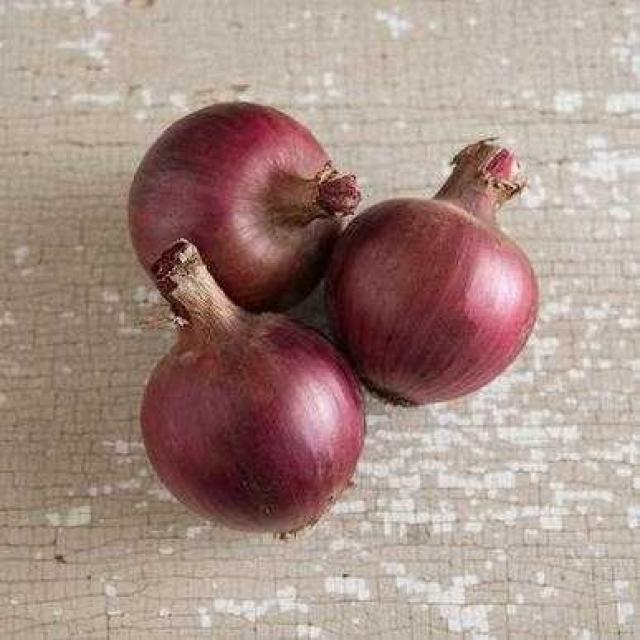onion: (132, 240, 369, 541), (328, 136, 544, 408), (126, 99, 364, 321)
